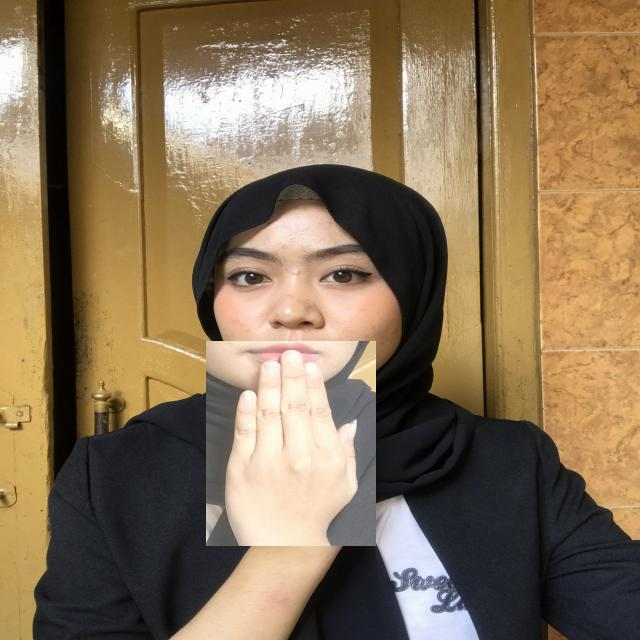ganteng: (206, 341, 376, 546)
